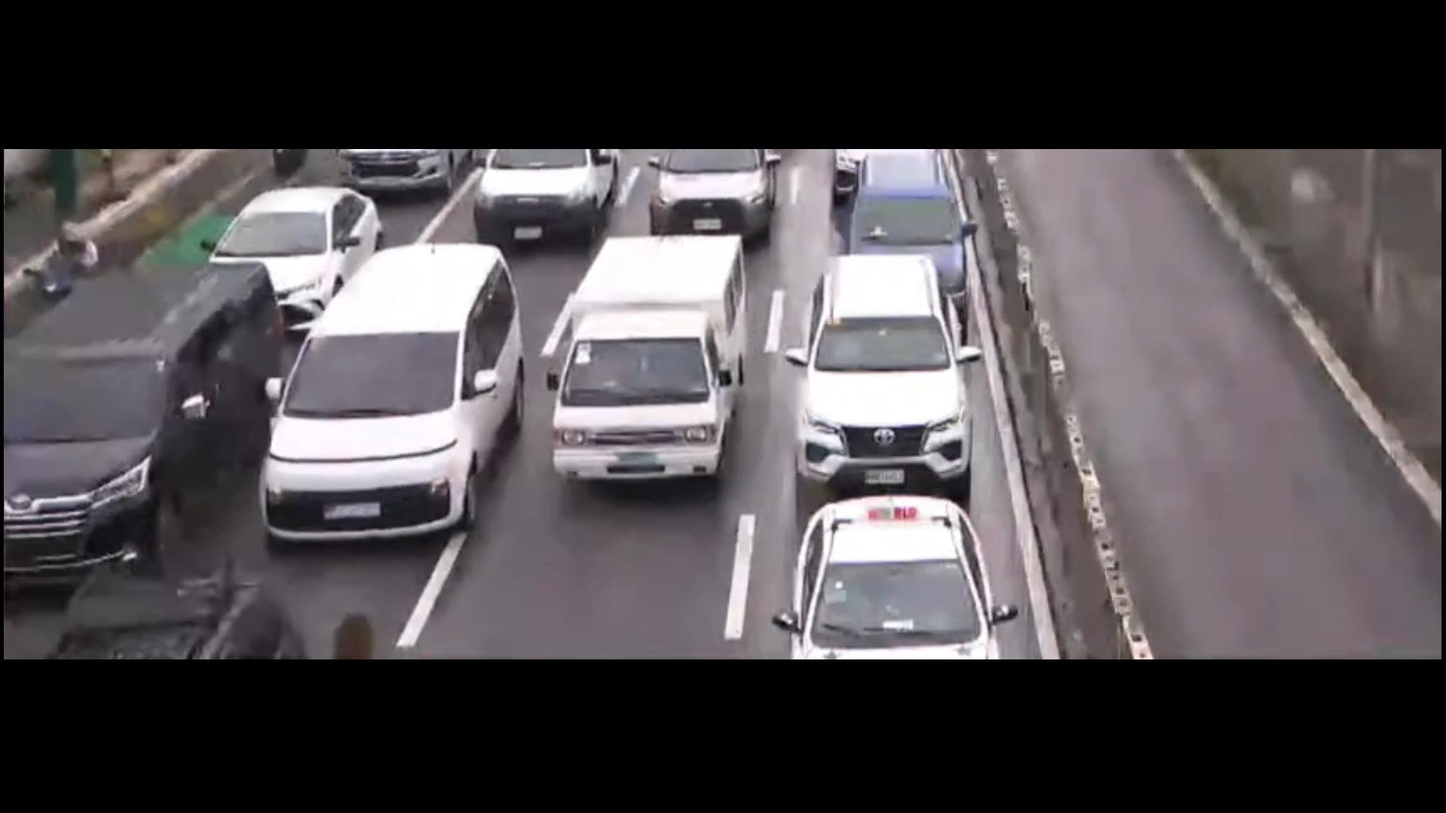Multicab: (523, 224, 755, 499)
SUV: (771, 256, 1000, 496), (843, 157, 998, 285), (643, 143, 791, 256), (482, 136, 618, 246)
Sedan: (763, 488, 1008, 658), (176, 172, 390, 331)
Van: (0, 239, 298, 598), (221, 245, 533, 563)
